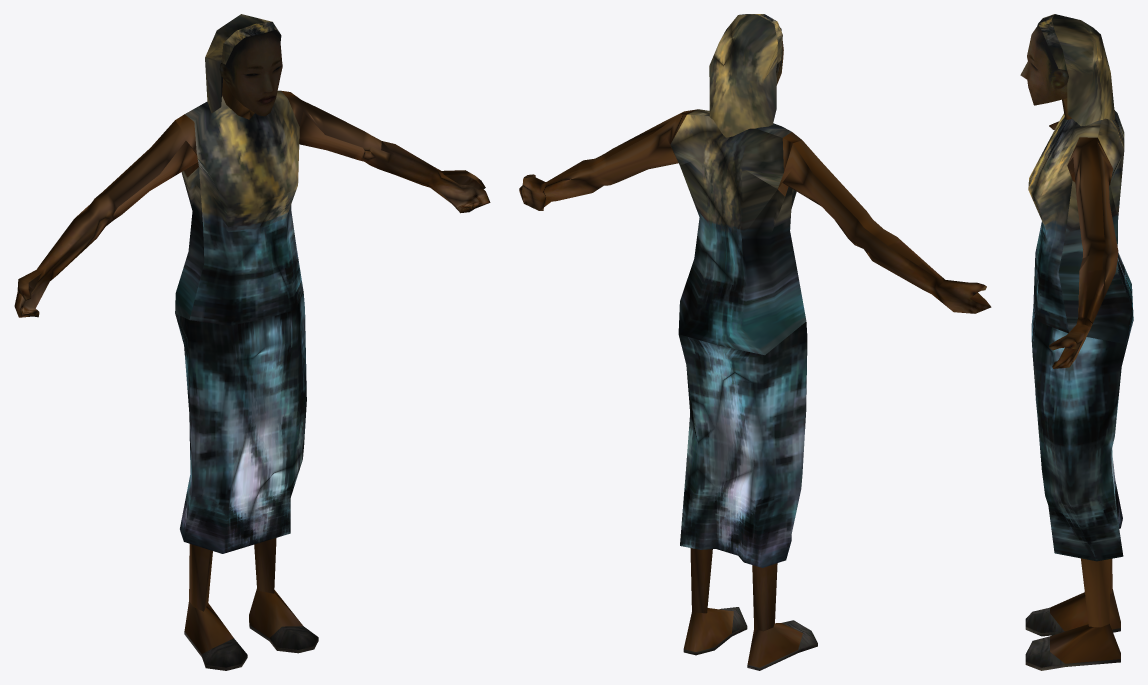
Rendered from CSomalF3.glb.
3 renders of one model, left to right at view 1: azimuth 30°, elevation 25°; view 2: azimuth 150°, elevation 25°; view 3: azimuth 270°, elevation 25°, orthographic.
Parts seen in each view (by area): view 1: _CSomalF3; view 2: _CSomalF3; view 3: _CSomalF3.
Boxes of the visible parts, x1,y1,x2,y2 form: _CSomalF3: [14, 14, 490, 670]; _CSomalF3: [519, 14, 991, 670]; _CSomalF3: [1020, 14, 1133, 670].
Size of the model in its own units: 1.59 by 2.02 by 0.3327.
3 materials, 3 textured.
